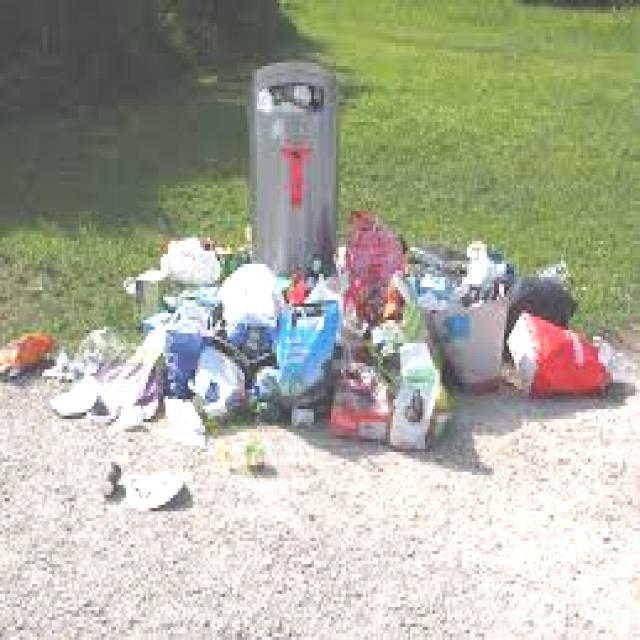high trash: (0, 212, 625, 512)
